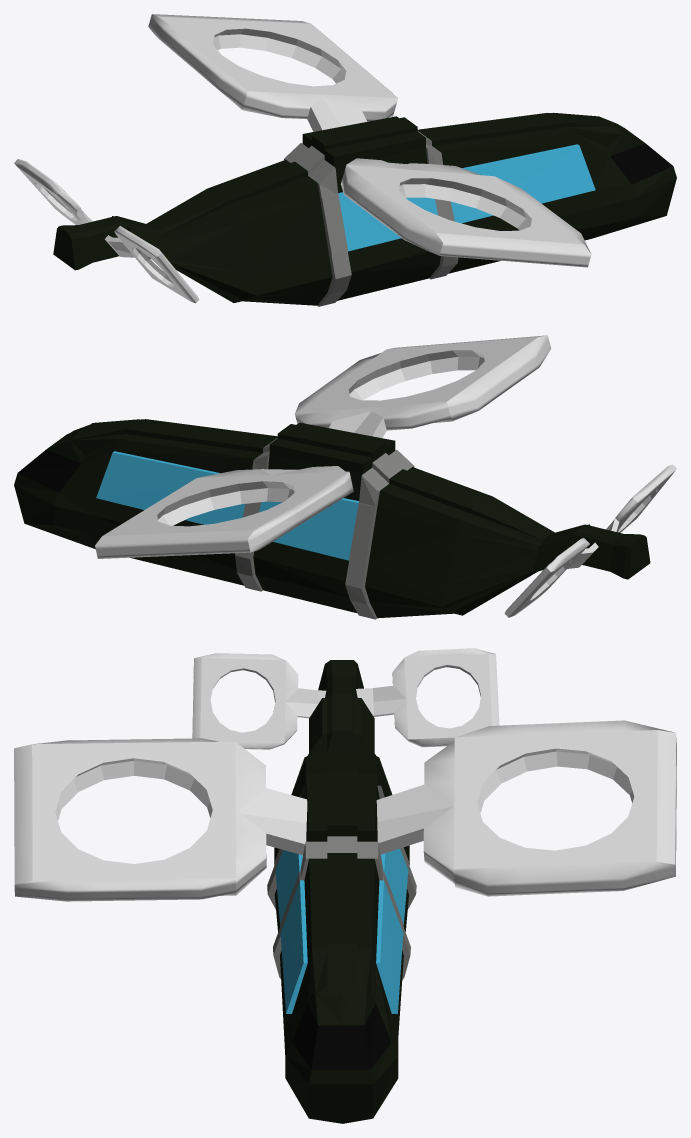
File: Osprey Helecopter version 4.fbx
3 views of the same model, one above another, from view 1: azimuth 30°, elevation 25°; view 2: azimuth 150°, elevation 25°; view 3: azimuth 270°, elevation 25° (orthographic). The views are drawn at different scales.
Visible parts, largest first — view 1: Helecopter_body, Rotor_Winga_1, Rotor_Winga_2, Rotor_Wing_3, Rotor_Winga_4; view 2: Helecopter_body, Rotor_Winga_1, Rotor_Winga_2, Rotor_Winga_4, Rotor_Wing_3; view 3: Helecopter_body, Rotor_Winga_2, Rotor_Winga_1, Rotor_Winga_4, Rotor_Wing_3.
Part boxes in pixels (x1,y1,x2,y2): Helecopter_body: [53, 112, 676, 306]; Rotor_Winga_1: [341, 158, 591, 267]; Rotor_Winga_2: [148, 14, 398, 131]; Rotor_Wing_3: [104, 226, 199, 303]; Rotor_Winga_4: [14, 159, 92, 224]; Helecopter_body: [14, 419, 650, 619]; Rotor_Winga_1: [295, 335, 551, 437]; Rotor_Winga_2: [95, 466, 353, 558]; Rotor_Winga_4: [504, 538, 598, 617]; Rotor_Wing_3: [606, 464, 676, 532]; Helecopter_body: [267, 660, 416, 1123]; Rotor_Winga_2: [376, 720, 676, 896]; Rotor_Winga_1: [14, 738, 307, 901]; Rotor_Winga_4: [356, 648, 499, 747]; Rotor_Wing_3: [192, 653, 326, 749].
Bounding box in the file's own units: 2358 × 675 × 2000.
